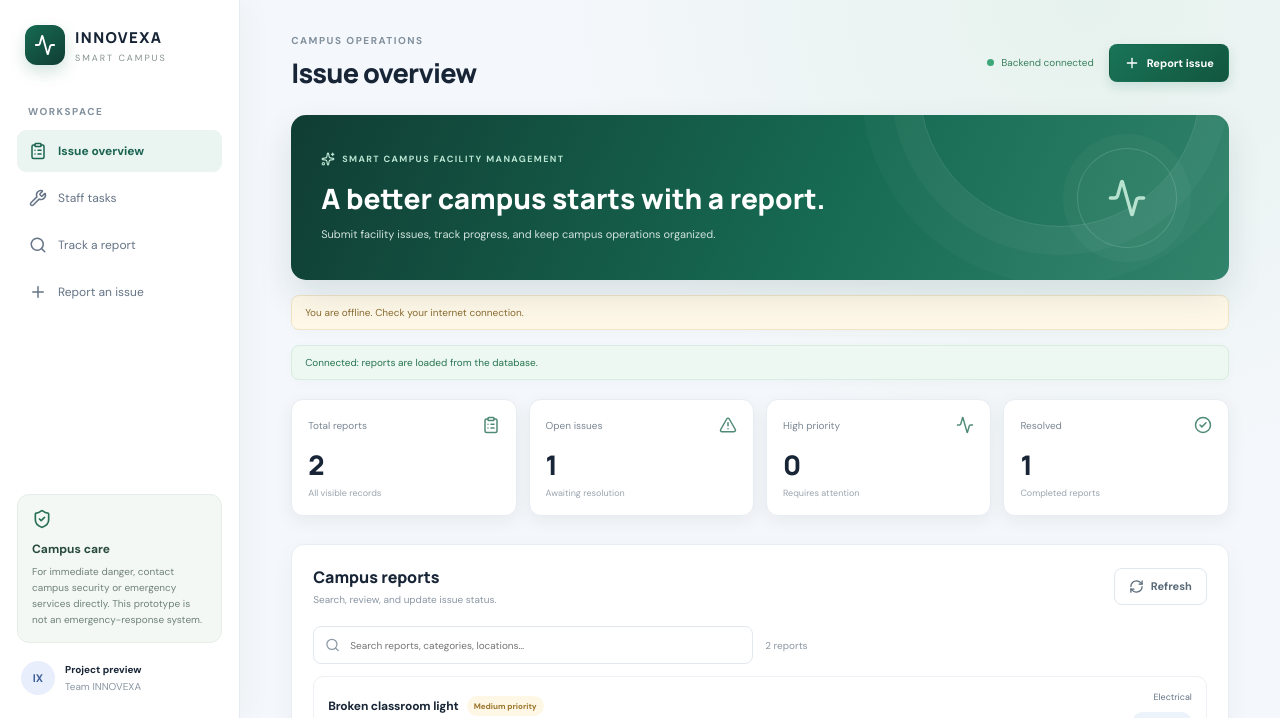
student issue interface › loads reports and filters them by search text
Check: the heading "Broken classroom light" is shown, box [328,698,459,714]
Type "plumbing" into the field labelled "Search reports" at (545, 645), box [348,638,741,652]
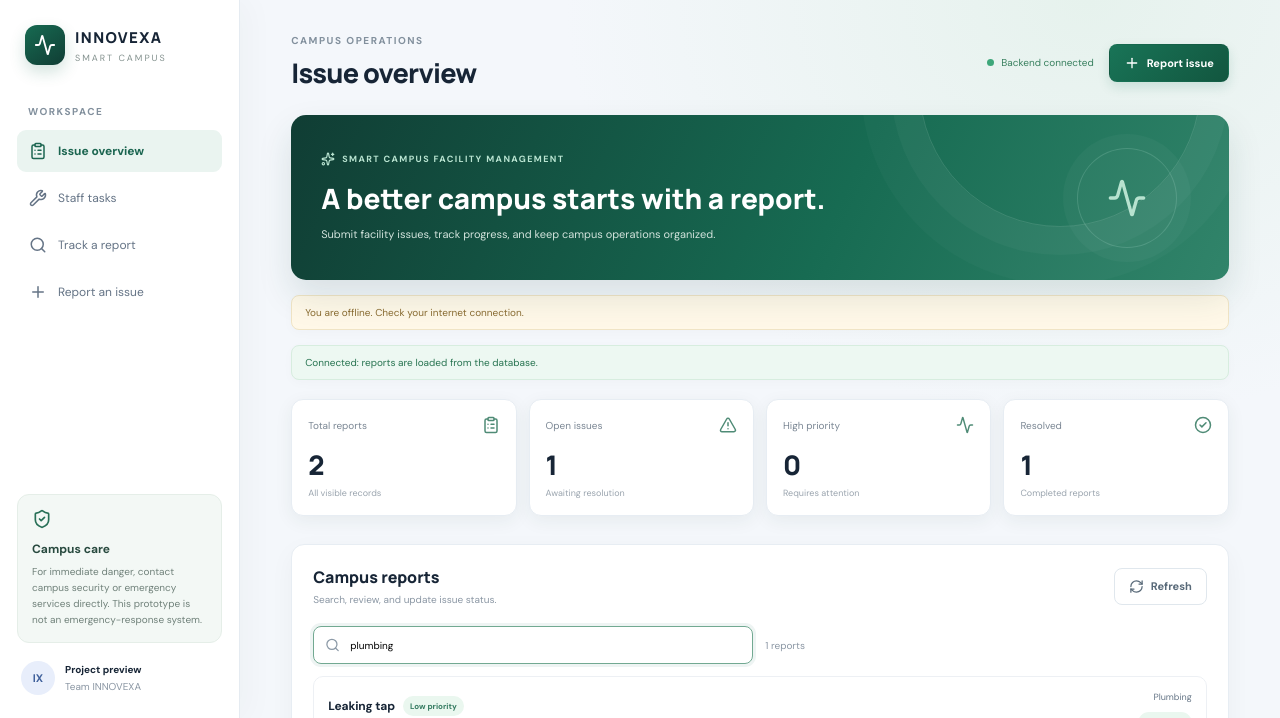
Check: the heading "Leaking tap" is shown, box [328,698,395,714]
Check: the heading "Broken classroom light" is gone
